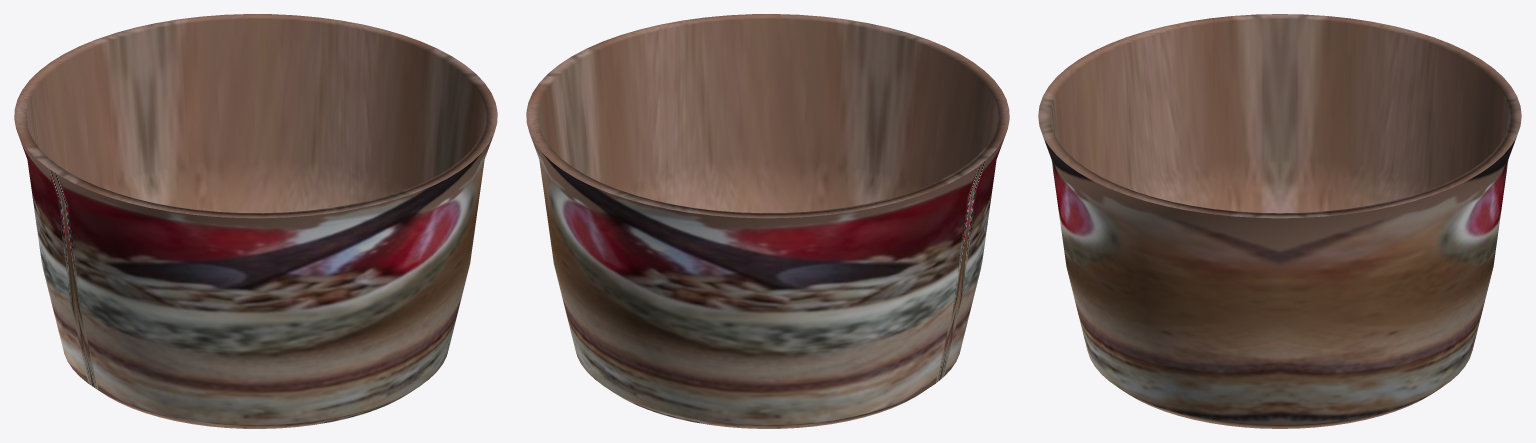
File: ORI-60.glb
3 views of the same model, side by side, from view 1: azimuth 30°, elevation 25°; view 2: azimuth 150°, elevation 25°; view 3: azimuth 270°, elevation 25° (orthographic).
Bounding box in the file's own units: 0.15 × 0.0808 × 0.15.
Materials: 2 (2 with a texture image).
